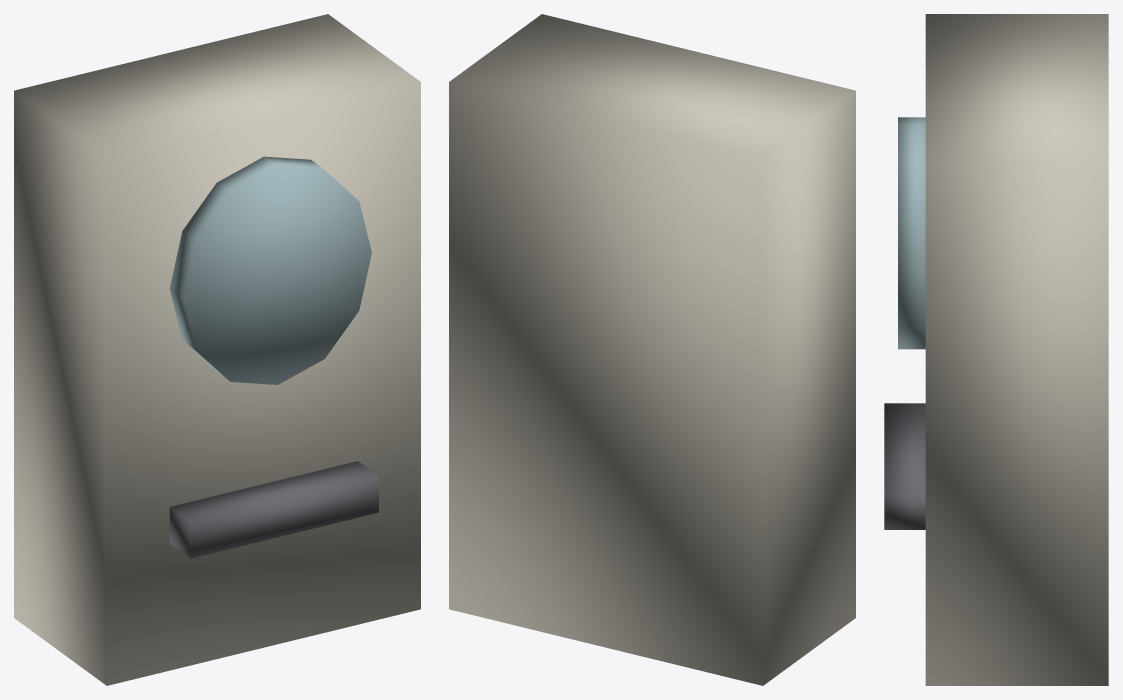
File: factory_time_clock__compact.glb
3 renders of one model, left to right at view 1: azimuth 30°, elevation 25°; view 2: azimuth 150°, elevation 25°; view 3: azimuth 270°, elevation 25°, orthographic.
Visible parts, largest first — view 1: world; view 2: world; view 3: world.
Boxes of the visible parts, box(x1,y1,x2,y2) form: world: box(14, 14, 420, 685); world: box(449, 14, 855, 685); world: box(884, 14, 1108, 685).
Size of the model in its own units: 0.336 by 0.5394 by 0.2107.
